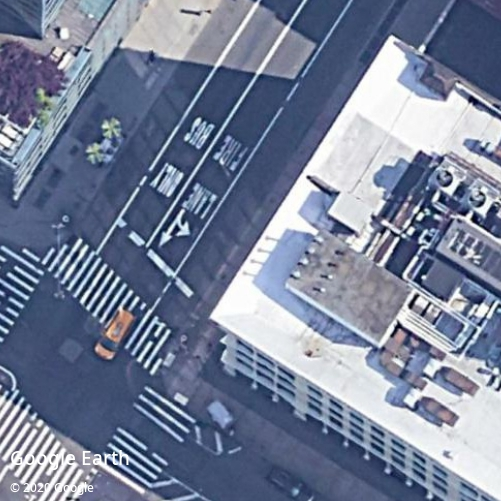Vent: (467, 190, 486, 208), (435, 169, 453, 187)
